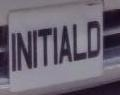1: (8, 28, 18, 76), (30, 24, 39, 73), (51, 22, 59, 67)
A: (58, 20, 74, 69)
D: (85, 14, 103, 65)
L: (70, 17, 89, 62)
N: (14, 26, 34, 76)
T: (37, 25, 55, 72)
